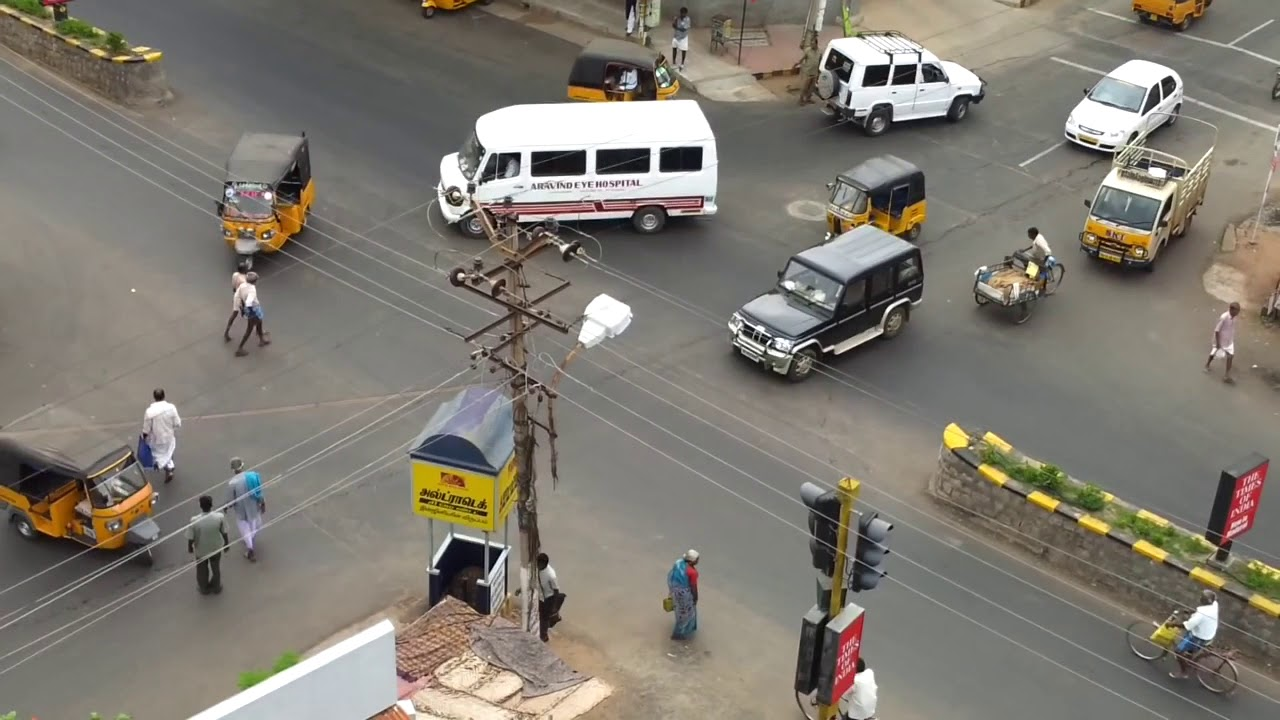auto: (1, 397, 157, 574), (205, 130, 319, 270), (820, 148, 941, 242), (563, 28, 683, 101), (1135, 1, 1221, 38)
car: (719, 219, 933, 389), (803, 27, 1002, 139), (1049, 47, 1194, 164), (786, 34, 825, 109)
cycle: (1118, 580, 1256, 697), (972, 220, 1066, 330)
person: (228, 442, 272, 569), (135, 383, 186, 485), (657, 544, 703, 646), (1202, 298, 1249, 392), (189, 490, 227, 599), (836, 653, 892, 720), (535, 547, 566, 645), (235, 270, 263, 353), (222, 261, 247, 351), (668, 3, 696, 80), (622, 1, 666, 35)
tempo: (1075, 113, 1217, 281)
traffic light: (789, 460, 903, 625)
traveller: (424, 103, 728, 244)
